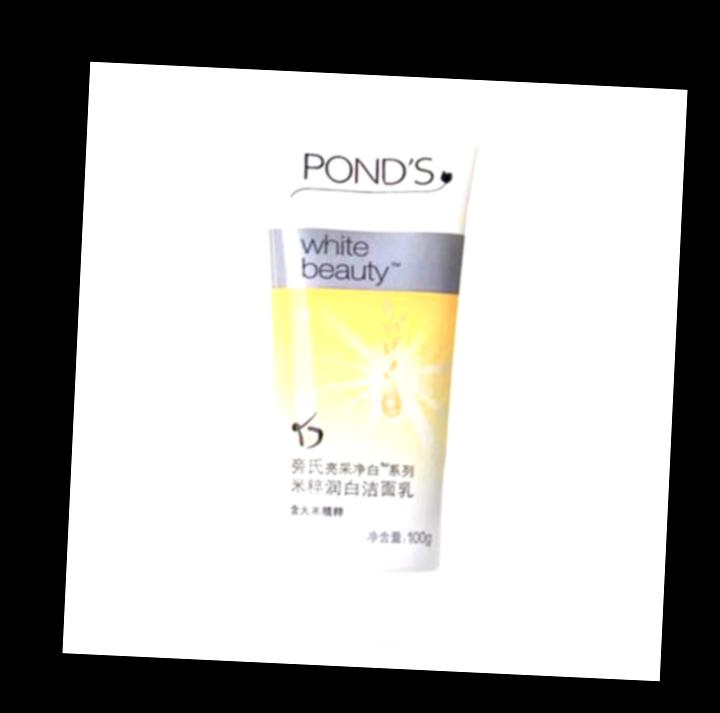cosmetic: (232, 96, 484, 650)
